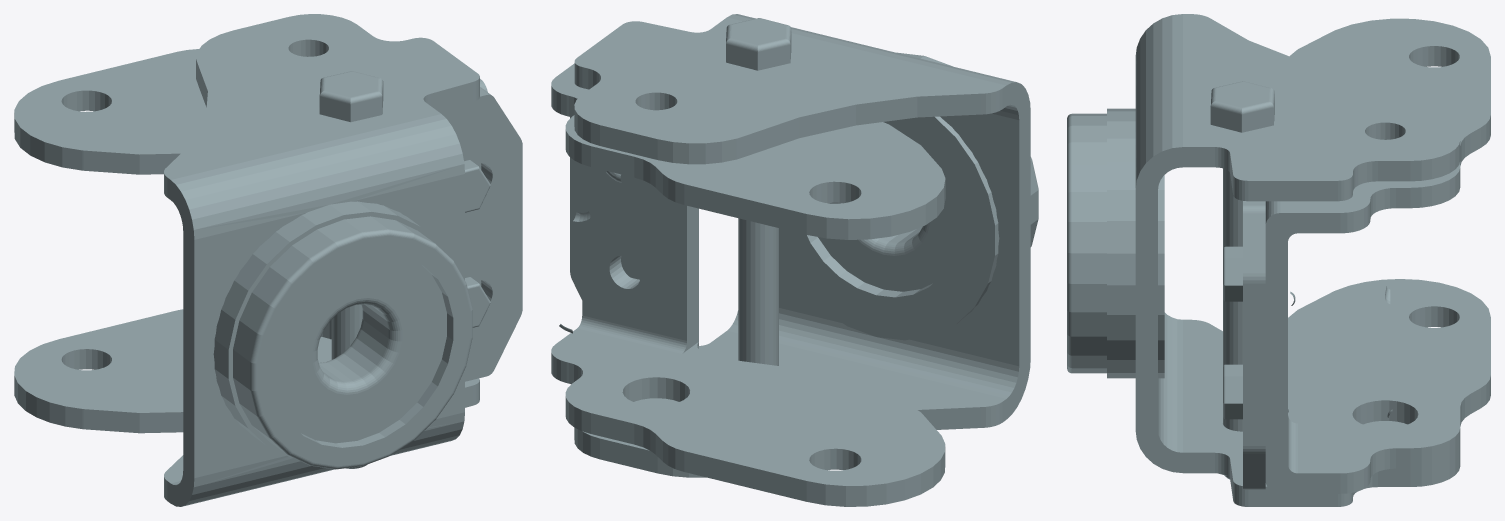
Rendered from castor_joint.dae.
3 views of the same model, side by side, from view 1: azimuth 30°, elevation 25°; view 2: azimuth 150°, elevation 25°; view 3: azimuth 270°, elevation 25° (orthographic). The views are drawn at different scales.
Parts seen in each view (by area): view 1: node0; view 2: node0; view 3: node0.
Boxes of the visible parts, box(x1,y1,x2,y2) form: node0: box(14, 14, 522, 506); node0: box(551, 14, 1038, 506); node0: box(1067, 14, 1490, 506).
Size of the model in its own units: 0.0974 by 0.0848 by 0.084.
